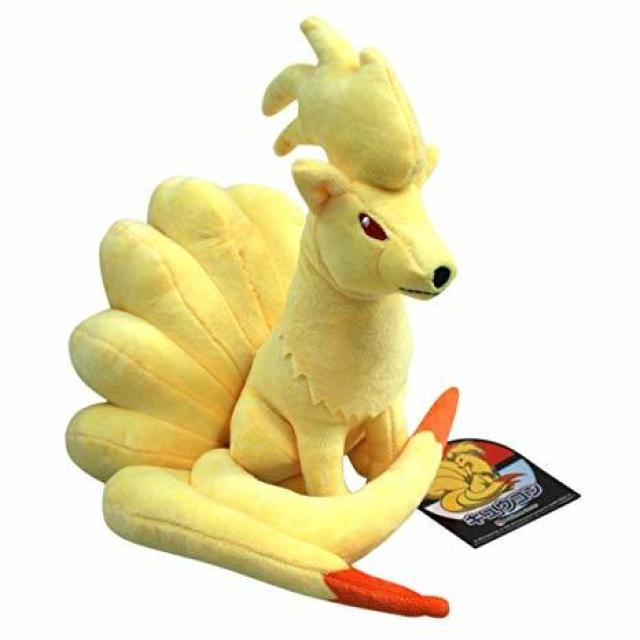Ninetales: (66, 57, 459, 594)
